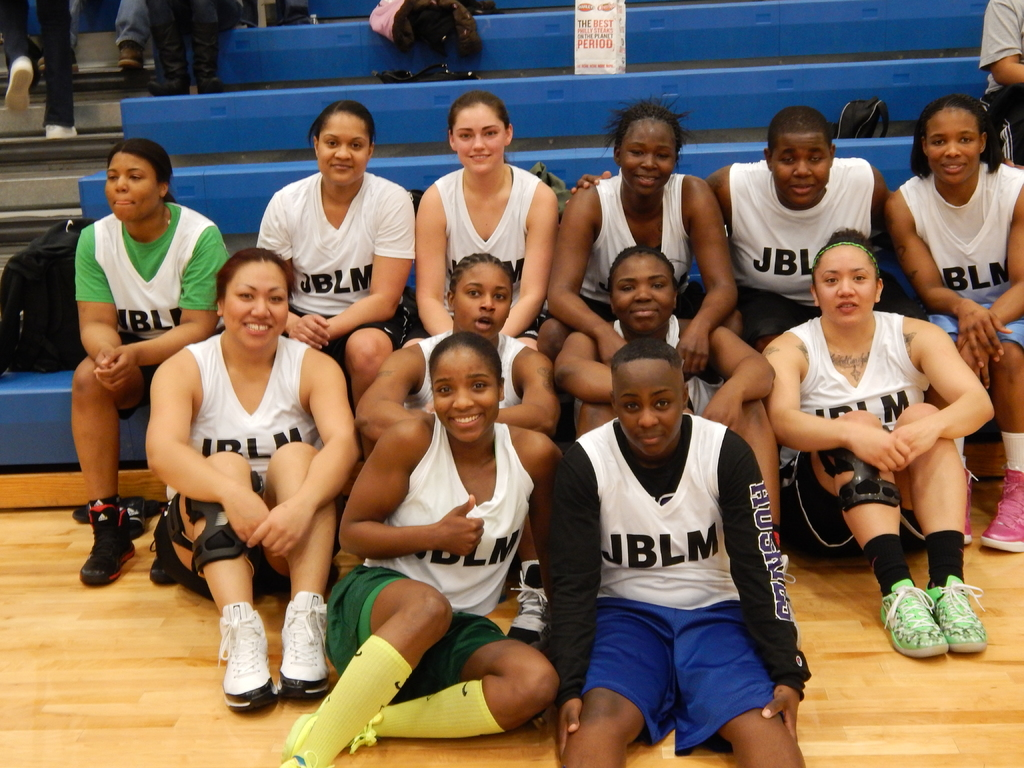face: (606, 341, 697, 457), (429, 334, 509, 449), (910, 97, 1003, 192), (214, 252, 298, 354), (809, 228, 889, 331), (610, 98, 689, 200), (100, 134, 178, 231), (763, 109, 838, 209), (606, 246, 683, 340), (310, 98, 380, 186), (443, 249, 517, 332), (444, 92, 518, 174)
